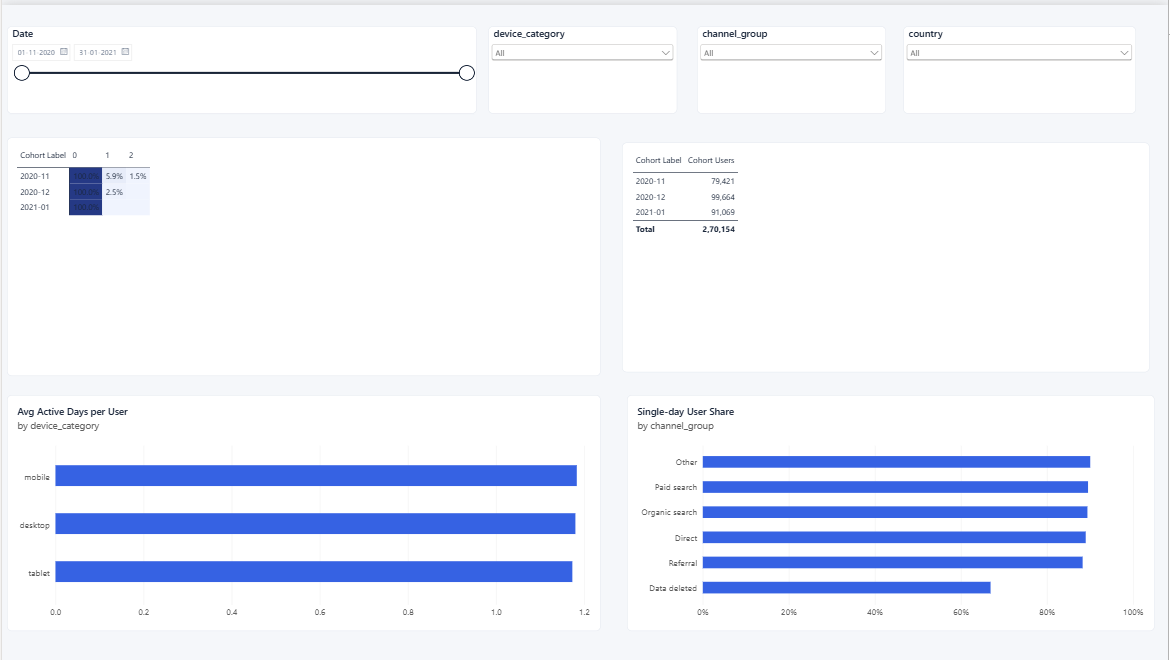

Layout of this report page (visuals, bound fields, positions):
{"tool":"powerbi","page":{"name":"Retention and cohorts","canvas":[1920,1080],"ordinal":2},"visuals":[{"type":"slicer","fields":{"Values":["dim_date.Date"]},"box":[8,4,310,62],"z":0},{"type":"slicer","fields":{"Values":["dim_user.device_category"]},"box":[324,4,310,62],"z":1000},{"type":"slicer","fields":{"Values":["dim_user.channel_group"]},"box":[640,4,310,62],"z":2000},{"type":"slicer","fields":{"Values":["dim_user.country"]},"box":[956,4,310,62],"z":3000},{"type":"pivotTable","fields":{"Columns":["fact_user_day.Month Number"],"Rows":["dim_user.Cohort Label"],"Values":["_Measures.Retention Rate"]},"box":[8,74,760,300],"z":4000},{"type":"tableEx","fields":{"Values":["dim_user.Cohort Label","_Measures.Cohort Users"]},"box":[776,74,496,300],"z":4001},{"type":"barChart","fields":{"Category":["dim_user.device_category"],"Y":["_Measures.Avg Active Days per User"]},"box":[8,384,628,320],"z":4002},{"type":"barChart","fields":{"Category":["dim_user.channel_group"],"Y":["_Measures.Single-day User Share"]},"box":[644,384,628,320],"z":4003}]}

Visuals, with their boxes in screenshot pixels (x1, y1, x2, y2), scaled from the page's 1920x1080 canvas onto the 1170x660 screenshot:
slicer - dim_date.Date: (5, 2, 194, 40)
slicer - dim_user.device_category: (197, 2, 386, 40)
slicer - dim_user.channel_group: (390, 2, 579, 40)
slicer - dim_user.country: (583, 2, 771, 40)
pivotTable - fact_user_day.Month Number x dim_user.Cohort Label: (5, 45, 468, 229)
tableEx - dim_user.Cohort Label x _Measures.Cohort Users: (473, 45, 775, 229)
barChart - dim_user.device_category x _Measures.Avg Active Days per User: (5, 235, 388, 430)
barChart - dim_user.channel_group x _Measures.Single-day User Share: (392, 235, 775, 430)
